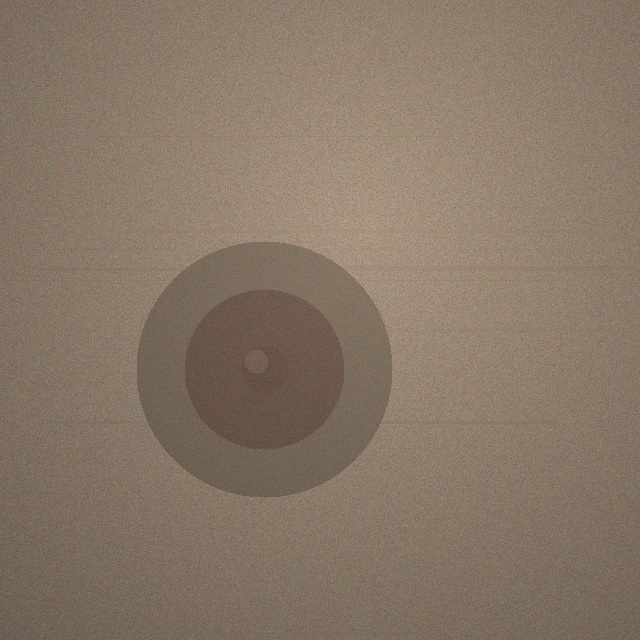good: (136, 241, 392, 497)
